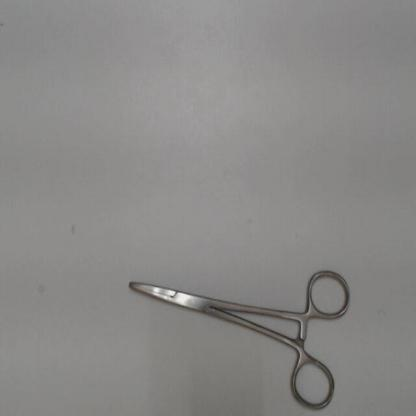Mayo Needle Holder: (122, 261, 354, 414)
